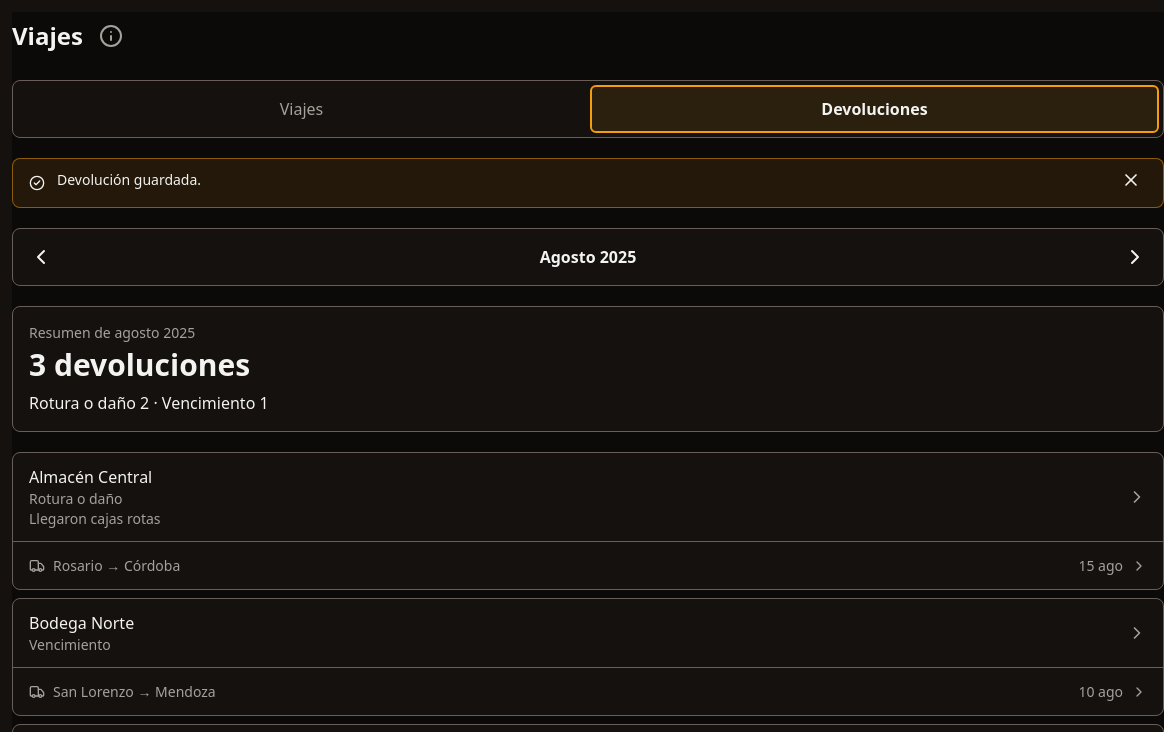
it: pestaña Devoluciones: aviso al volver de guardar o eliminar › la X cierra el aviso con replace y state: null, SIN perder la pestaña ni el mes
The width and height of the screenshot is (1164, 732).
Click the button named "Cerrar aviso": coordinates (1131, 180) [1107, 156, 1155, 204]
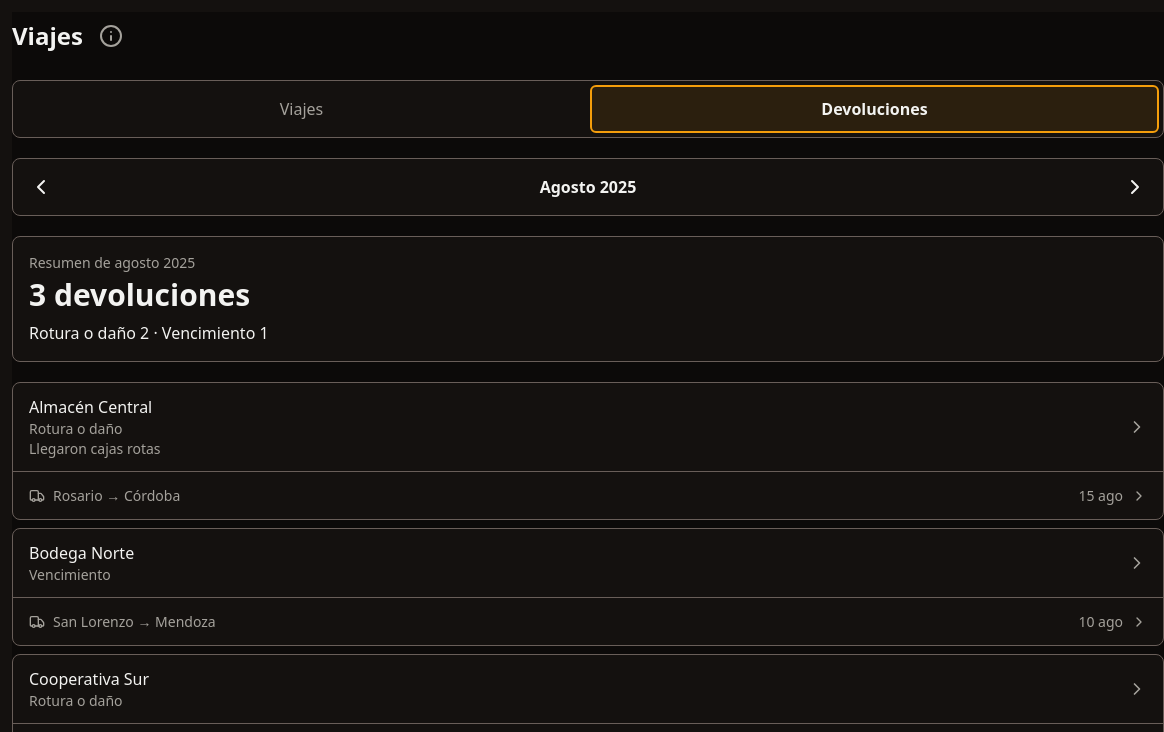
Result: the text "Devolución guardada." is gone
